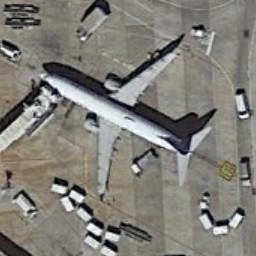Airplane: (30, 39, 219, 204)
